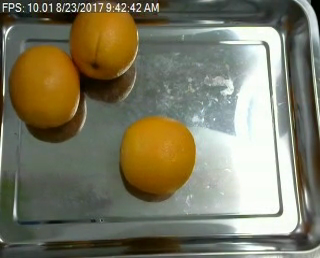Orange: (119, 114, 196, 194), (9, 44, 80, 126), (69, 1, 137, 79)
